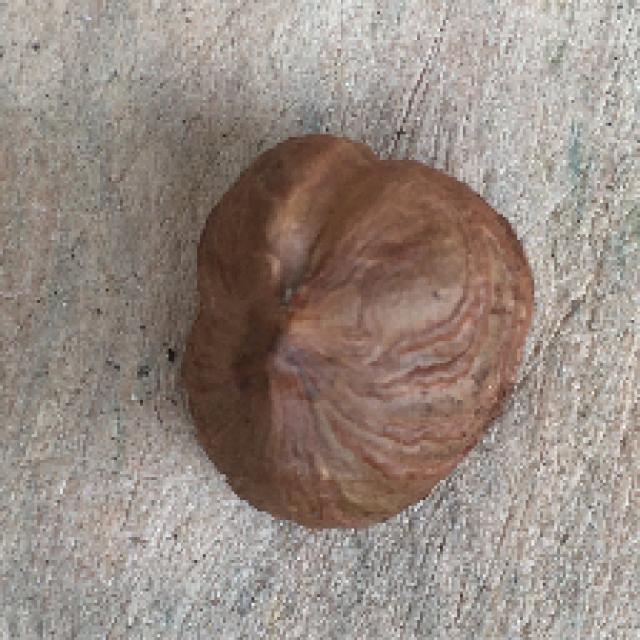hazelnut: (186, 127, 539, 534)
